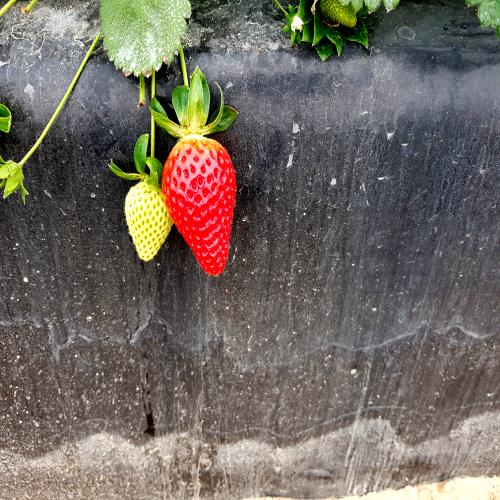ripe: (164, 133, 240, 282)
